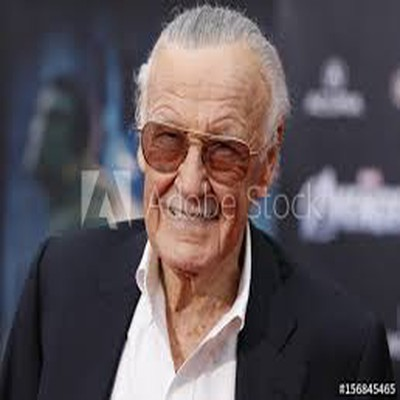eywear: (112, 94, 310, 210)
